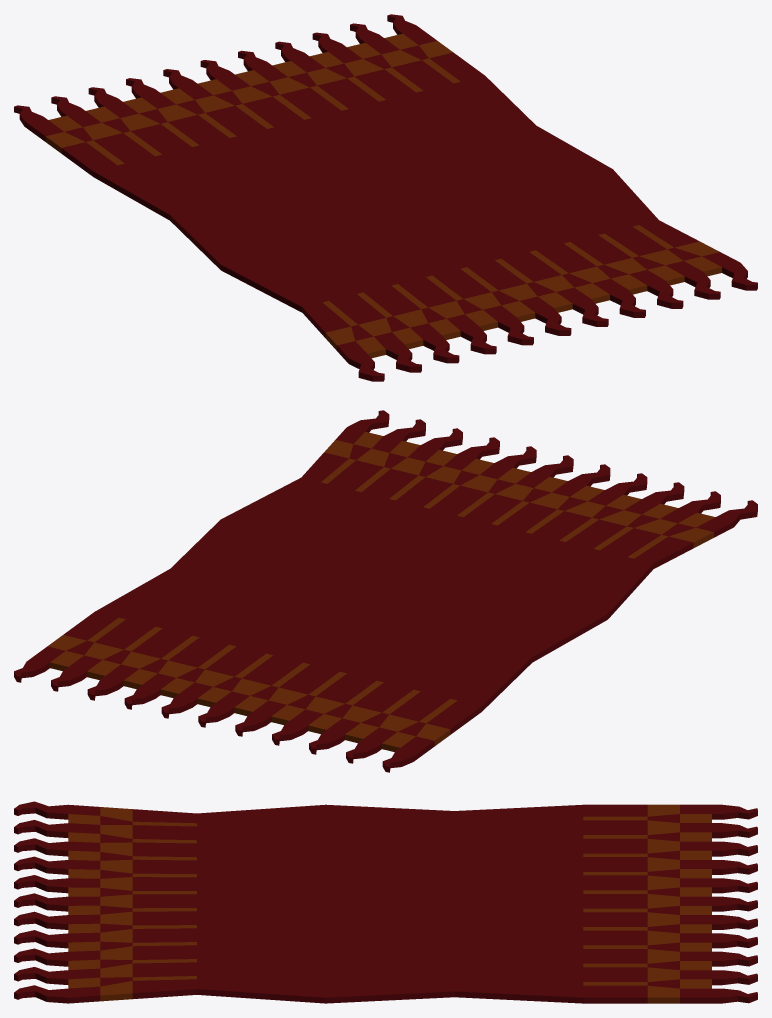
The model's file is Carpet.fbx.
3 views of the same model, one above another, from view 1: azimuth 30°, elevation 25°; view 2: azimuth 150°, elevation 25°; view 3: azimuth 270°, elevation 25° (orthographic). The views are drawn at different scales.
Visible parts, largest first — view 1: Capet; view 2: Capet; view 3: Capet.
Part boxes in pixels (x1,y1,x2,y2): Capet: (14,14,757,381); Capet: (14,410,757,772); Capet: (14,801,757,1003).
Bounding box in the file's own units: 1.31 × 0.0182 × 2.1.
